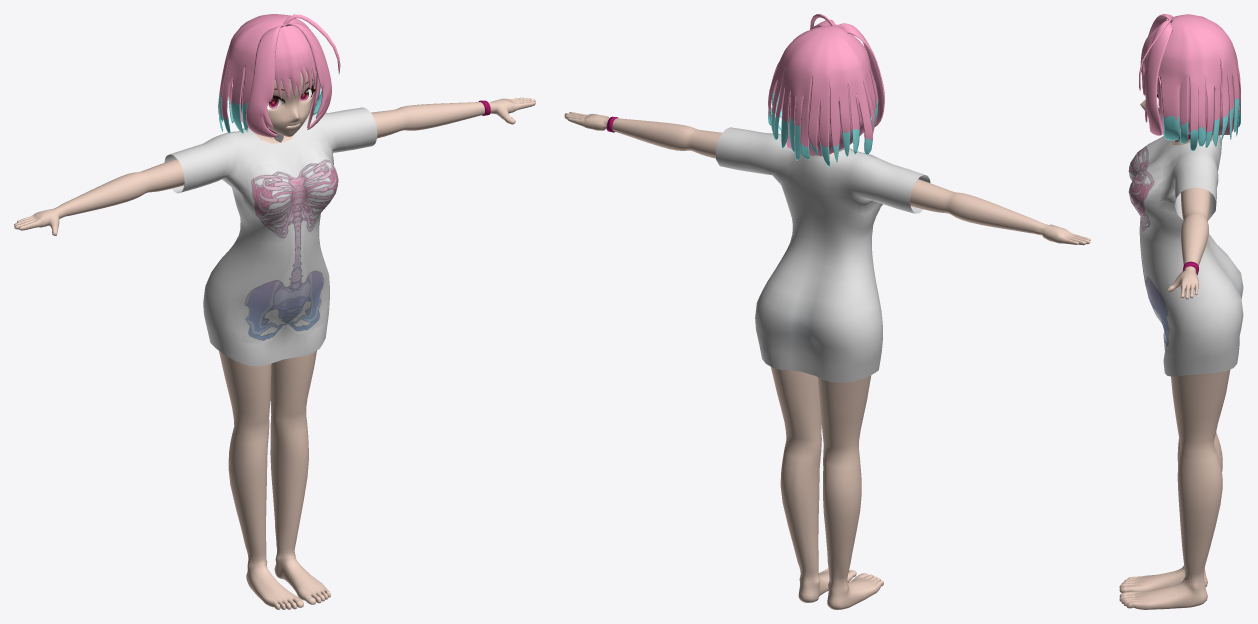
The model's file is riamu yumemi .fbx.
The picture shows the model from 3 angles, left to right: view 1: azimuth 30°, elevation 25°; view 2: azimuth 150°, elevation 25°; view 3: azimuth 270°, elevation 25°; orthographic projection. The views are drawn at different scales.
Parts seen in each view (by area): view 1: ropa, cuerpo, pelo exterior, pelo double; view 2: ropa, cuerpo, pelo exterior, pelo interior, pelo double; view 3: ropa, cuerpo, pelo exterior, pelo double, pelo interior.
Boxes of the visible parts, x1,y1,x2,y2 form: ropa: [164, 107, 377, 366]; cuerpo: [14, 69, 535, 609]; pelo exterior: [218, 14, 322, 133]; pelo double: [246, 23, 331, 137]; ropa: [715, 127, 930, 382]; cuerpo: [564, 112, 1090, 609]; pelo exterior: [768, 25, 878, 166]; pelo interior: [781, 77, 871, 155]; pelo double: [811, 19, 884, 126]; ropa: [1128, 135, 1243, 376]; cuerpo: [1119, 89, 1230, 609]; pelo exterior: [1140, 14, 1240, 151]; pelo double: [1142, 14, 1172, 135]; pelo interior: [1157, 60, 1234, 135].
Bounding box in the file's own units: 2.76 × 2.9 × 0.5574.
1 material, 1 textured.
